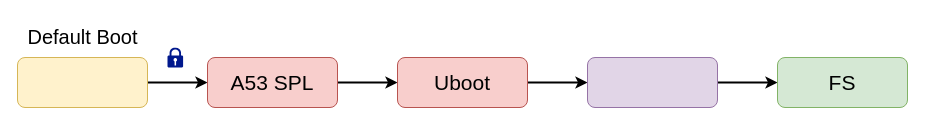
Image size: 925x125. Some labels were removed from this diagram. Here are the shapes that lost their labels. From the top down, the centre of each, then its label:
At (82,82): "ROM".
At (652,82): "Kernel".
